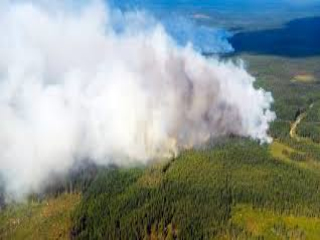smoke: (4, 11, 279, 178)
